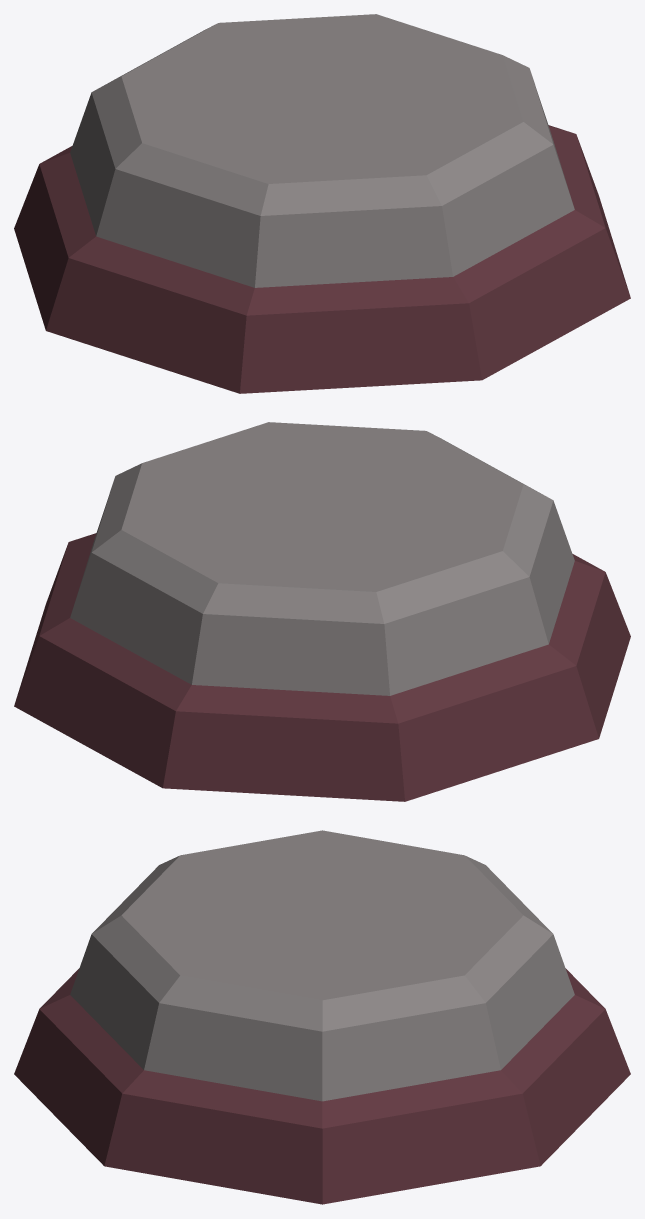
Rendered from scifi-scifi-turret-base-circle-small.glb.
The picture shows the model from 3 angles, top to bottom: view 1: azimuth 30°, elevation 25°; view 2: azimuth 150°, elevation 25°; view 3: azimuth 270°, elevation 25°; orthographic projection. The views are drawn at different scales.
Visible parts, largest first — view 1: scifi-turret-base-circle-small; view 2: scifi-turret-base-circle-small; view 3: scifi-turret-base-circle-small.
Boxes of the visible parts, bbox=[...] form: scifi-turret-base-circle-small: bbox=[14, 14, 630, 393]; scifi-turret-base-circle-small: bbox=[14, 422, 630, 801]; scifi-turret-base-circle-small: bbox=[14, 830, 630, 1204].
Bounding box in the file's own units: 1.41 × 0.3999 × 1.41.
